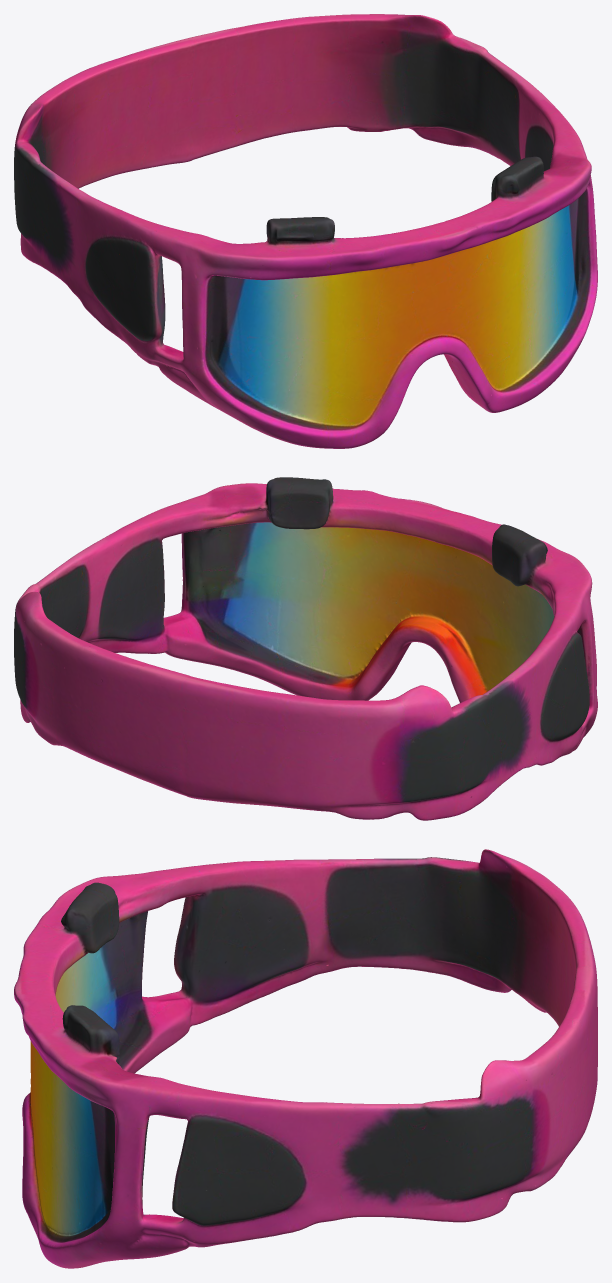
The model's file is Pink_Neon_Ski_Goggles.glb.
The picture shows the model from 3 angles, top to bottom: view 1: azimuth 30°, elevation 25°; view 2: azimuth 150°, elevation 25°; view 3: azimuth 270°, elevation 25°; orthographic projection. The views are drawn at different scales.
Size of the model in its own units: 2 by 0.9349 by 1.96.
1 material, 1 textured.
